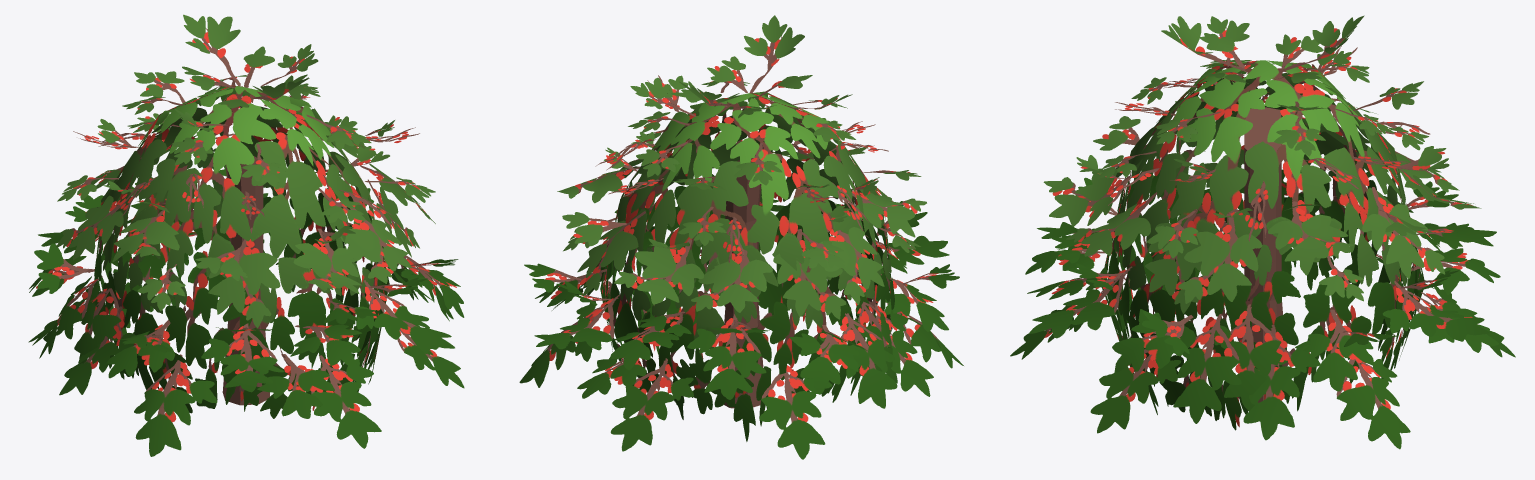
The model's file is BushHawthorn01.glb.
The picture shows the model from 3 angles, left to right: view 1: azimuth 30°, elevation 25°; view 2: azimuth 150°, elevation 25°; view 3: azimuth 270°, elevation 25°; orthographic projection. The views are drawn at different scales.
Parts seen in each view (by area): view 1: Cylinder; view 2: Cylinder; view 3: Cylinder.
Boxes of the visible parts, bbox=[...] form: Cylinder: bbox=[28, 14, 464, 456]; Cylinder: bbox=[519, 15, 963, 459]; Cylinder: bbox=[1010, 15, 1515, 449].
Bounding box in the file's own units: 2.77 × 2.44 × 3.07.
Materials: 1 (1 with a texture image).
